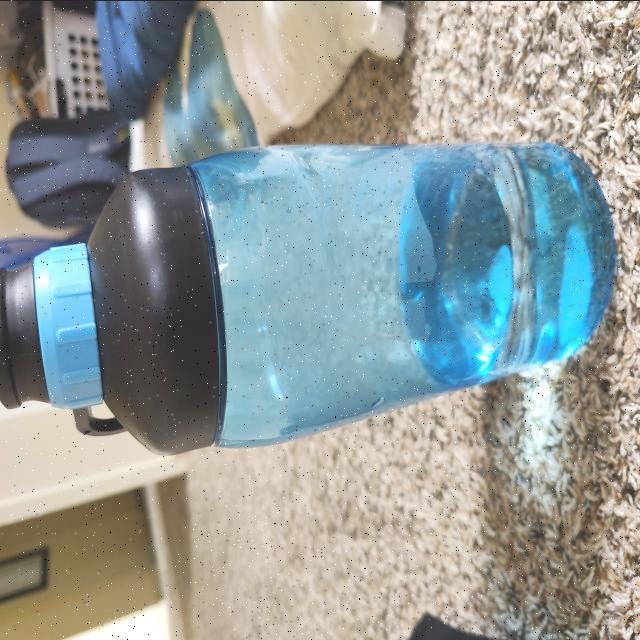bottle: (0, 156, 597, 440)
